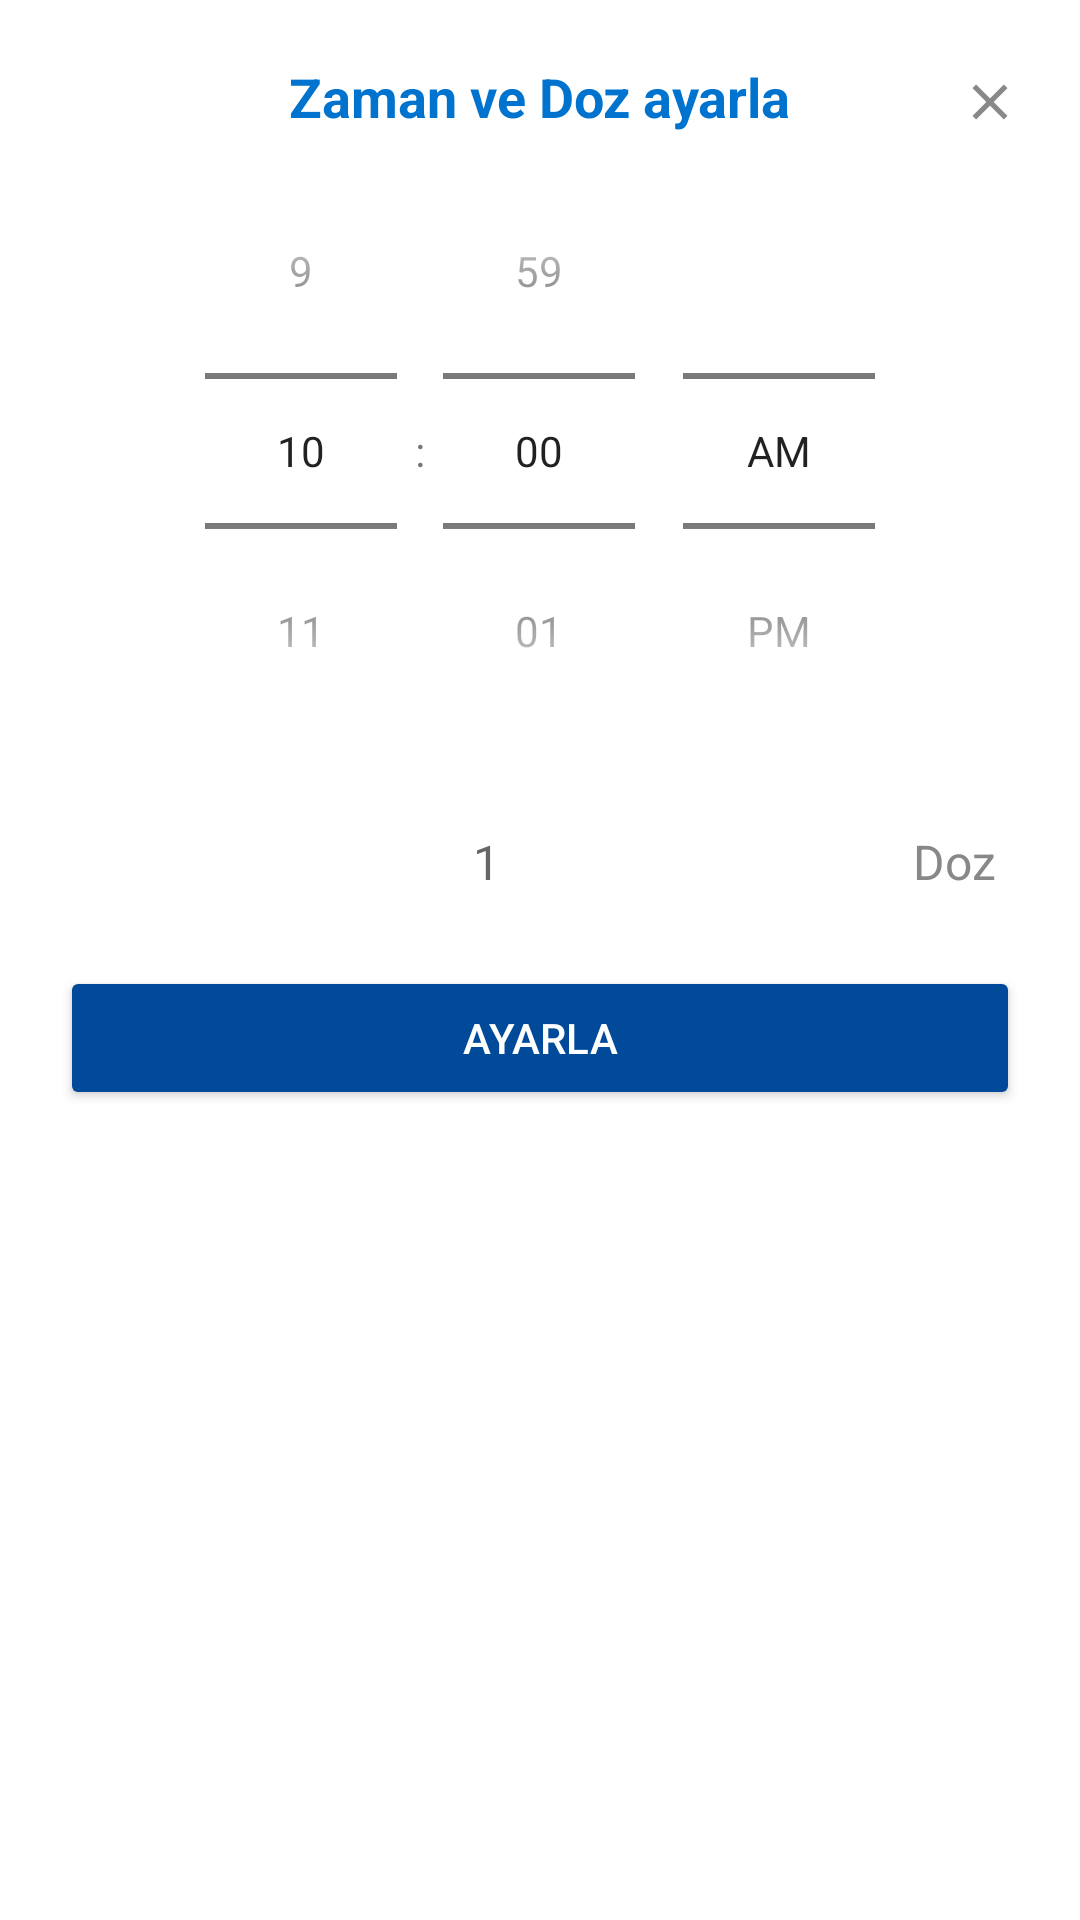

Where to tap for icons on this 1080px×1920px app screen, as [x,y]:
close: [990,102]
